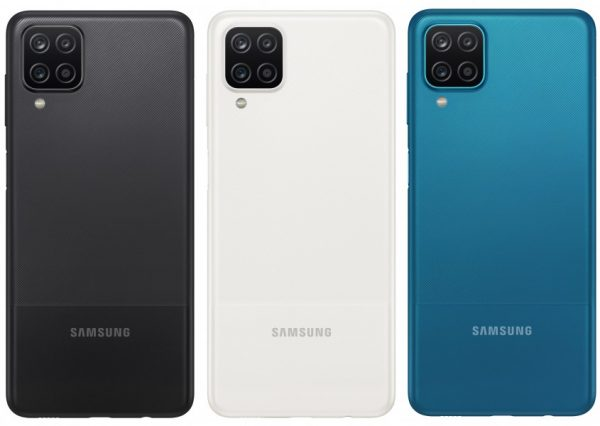phone: (201, 5, 401, 421), (402, 3, 600, 420), (1, 6, 196, 420)
